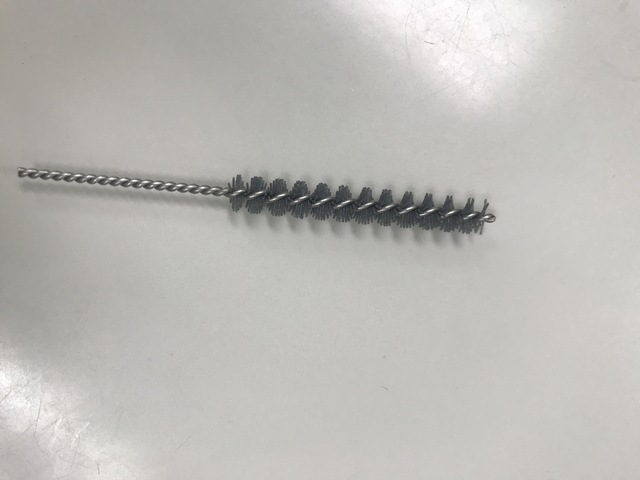Twist Brush-A: (10, 160, 500, 244)
